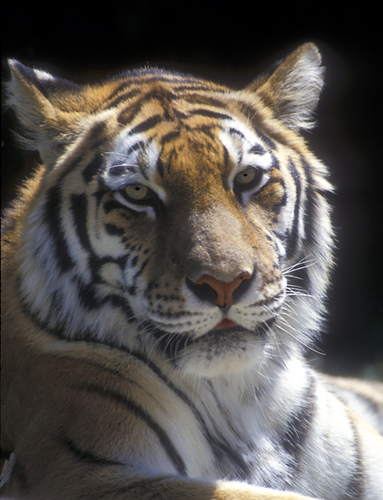Tigre: (23, 60, 348, 400)
